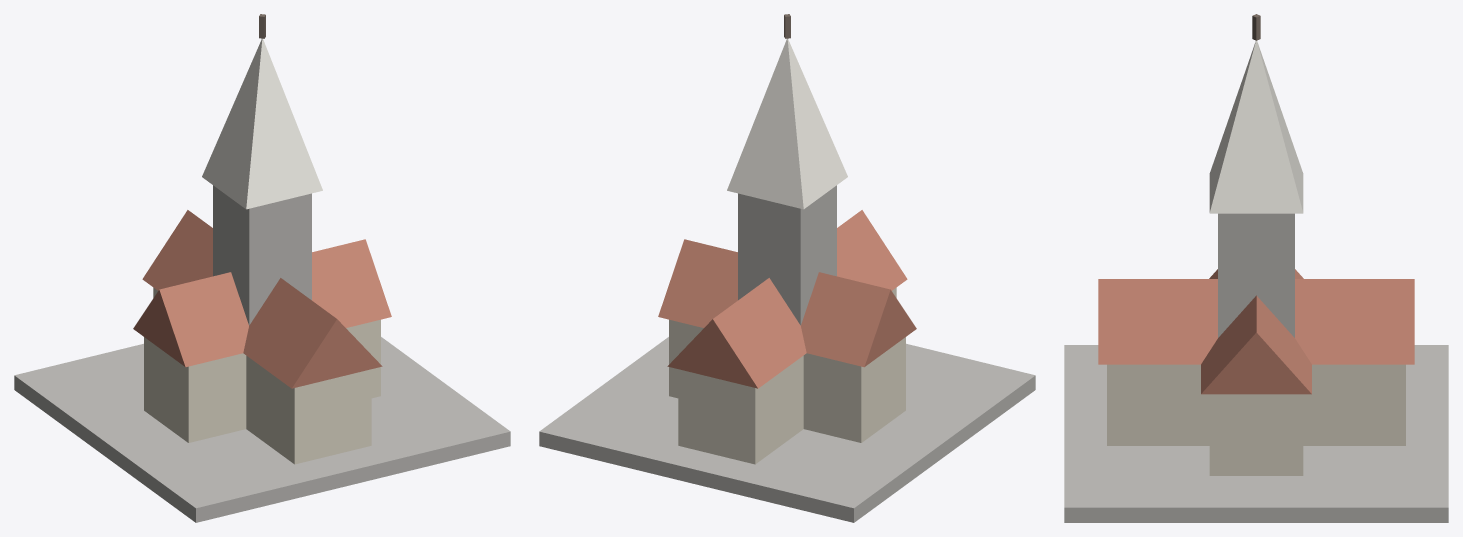
Rendered from temple.glb.
3 views of the same model, side by side, from view 1: azimuth 30°, elevation 25°; view 2: azimuth 150°, elevation 25°; view 3: azimuth 270°, elevation 25° (orthographic). The views are drawn at different scales.
Visible parts, largest first — view 1: medieval_temple; view 2: medieval_temple; view 3: medieval_temple.
Part boxes in pixels (box(x1,y1,x2,y2)): medieval_temple: box(14, 14, 510, 522); medieval_temple: box(539, 14, 1035, 522); medieval_temple: box(1064, 14, 1448, 522).
Size of the model in its own units: 0.8182 by 1 by 0.8182.
